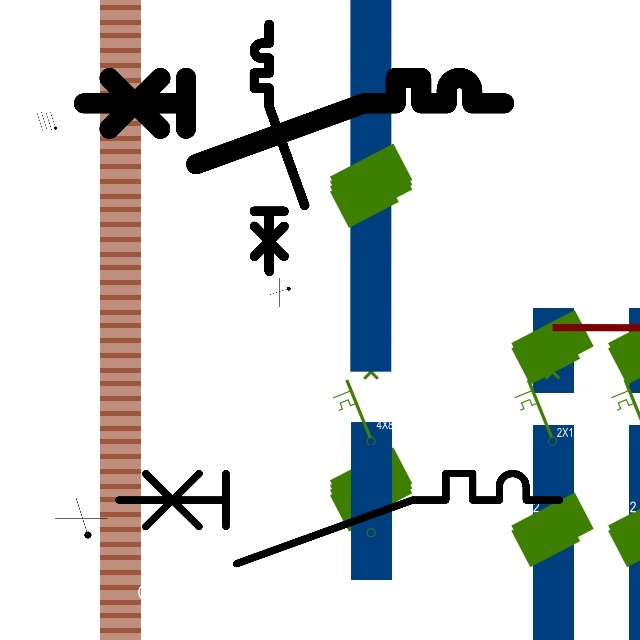interruptor_termomagnetico: (107, 462, 571, 575), (72, 67, 514, 175), (248, 18, 311, 278)
